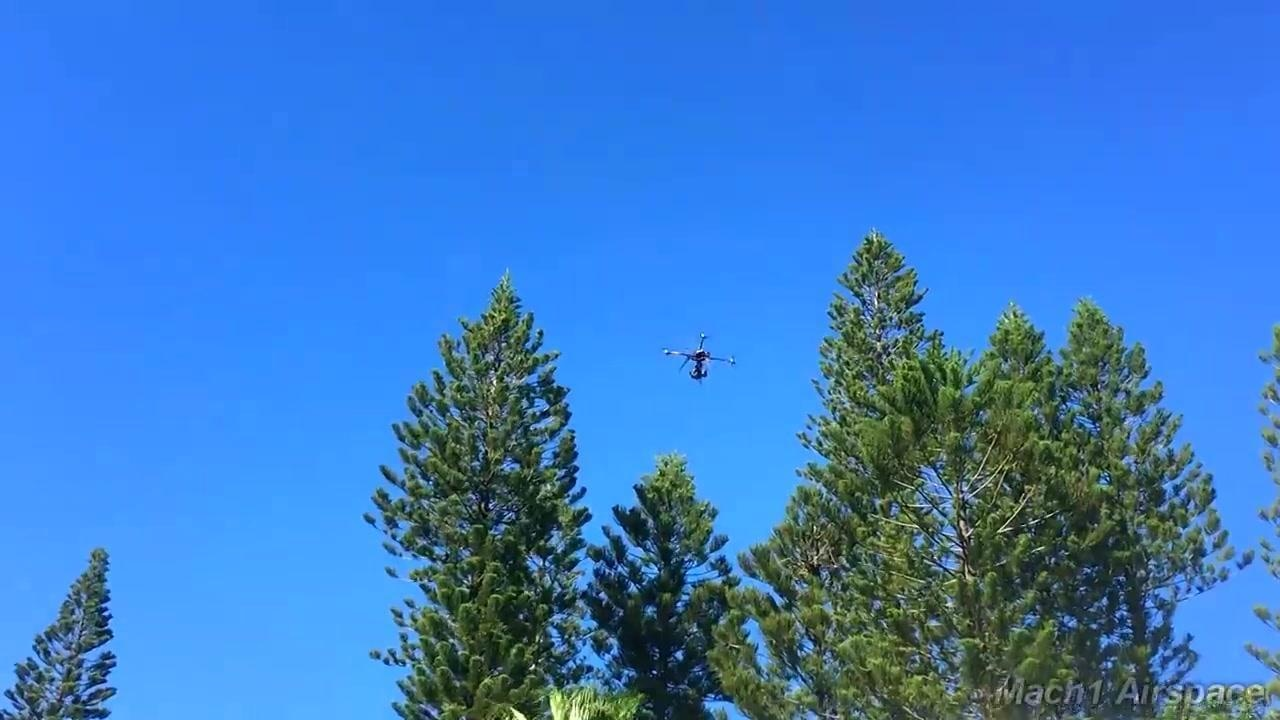UAV: (663, 333, 737, 385)
